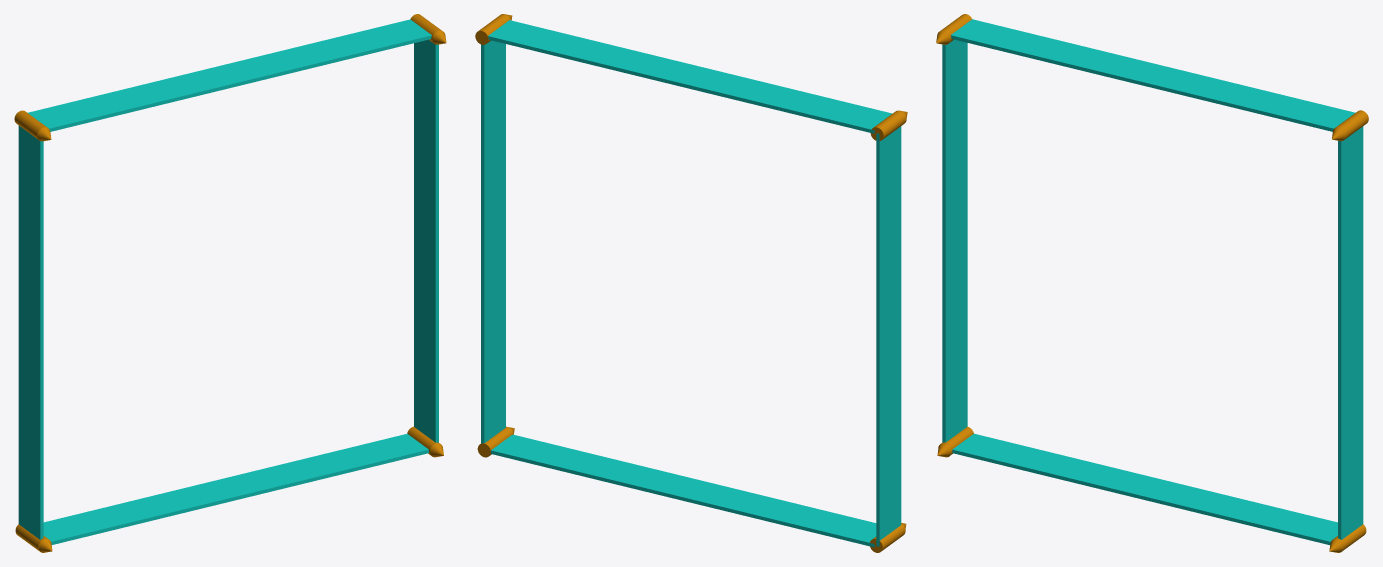
The model's file is velmobil_gym.obj.
3 renders of one model, left to right at view 1: azimuth 30°, elevation 25°; view 2: azimuth 150°, elevation 25°; view 3: azimuth 330°, elevation 25°, orthographic.
Parts seen in each view (by area): view 1: Cube.003, Cube.002, Cube, Cube.001; view 2: Cube.003, Cube.002, Cube, Cube.001, Cylinder.003; view 3: Cube.002, Cube.003, Cube, Cube.001.
Part boxes in pixels (x1=…): Cube.003: x1=18, y1=125, x2=43, y2=539; Cube.002: x1=414, y1=39, x2=438, y2=442; Cube: x1=27, y1=19, x2=431, y2=131; Cube.001: x1=43, y1=433, x2=428, y2=544; Cube.003: x1=876, y1=126, x2=901, y2=546; Cube.002: x1=481, y1=40, x2=505, y2=443; Cube: x1=488, y1=20, x2=892, y2=133; Cube.001: x1=491, y1=434, x2=876, y2=547; Cylinder.003: x1=870, y1=110, x2=906, y2=140; Cube.002: x1=1338, y1=126, x2=1363, y2=539; Cube.003: x1=942, y1=39, x2=967, y2=442; Cube: x1=950, y1=19, x2=1355, y2=131; Cube.001: x1=952, y1=433, x2=1337, y2=545.
Bounding box in the file's own units: 61.99 × 61.77 × 8.04.
